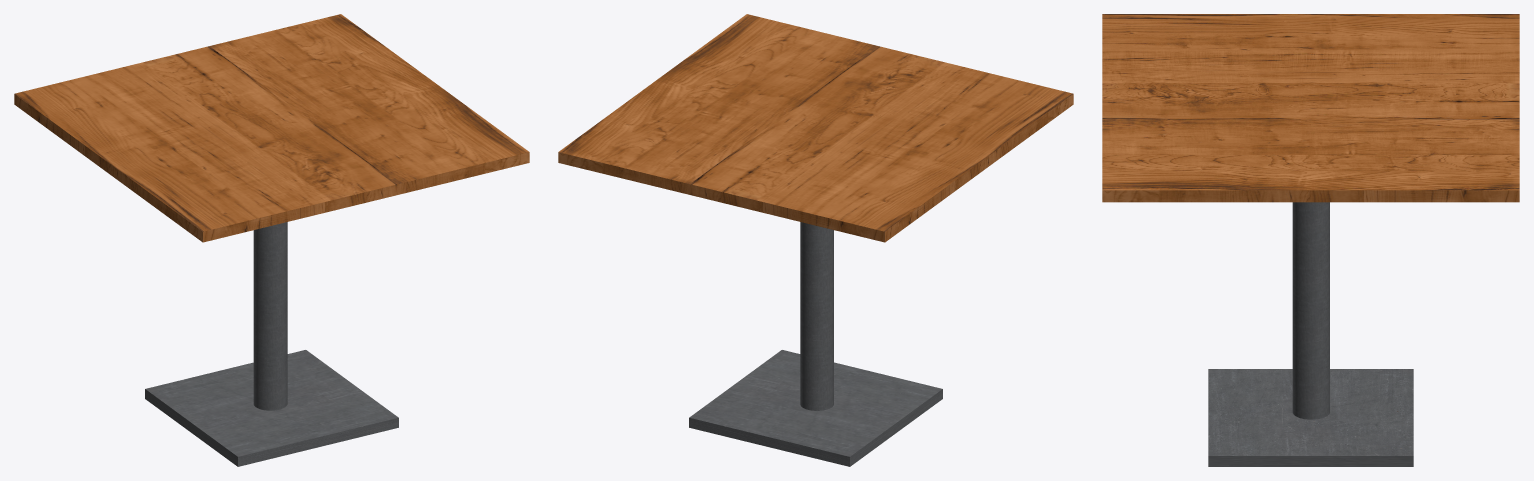
File: Table.FBX
3 renders of one model, left to right at view 1: azimuth 30°, elevation 25°; view 2: azimuth 150°, elevation 25°; view 3: azimuth 270°, elevation 25°, orthographic. The views are drawn at different scales.
Parts seen in each view (by area): view 1: Table; view 2: Table; view 3: Table.
Part boxes in pixels (box(x1,y1,x2,y2)): Table: box(14, 14, 529, 466); Table: box(558, 14, 1073, 466); Table: box(1102, 14, 1519, 466).
Bounding box in the file's own units: 97.97 × 83.22 × 97.97.
2 materials, 2 textured.
